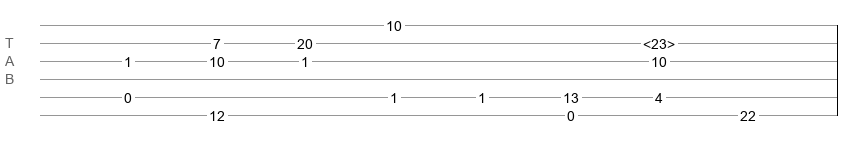0: (124, 90, 132, 100), (567, 108, 575, 118)
1: (124, 54, 132, 64), (301, 54, 309, 64), (390, 90, 398, 100), (478, 90, 486, 100)
10: (209, 54, 225, 64), (386, 18, 402, 28), (651, 54, 667, 64)
12: (209, 108, 225, 118)
13: (563, 90, 579, 100)
20: (297, 36, 313, 46)
22: (740, 108, 756, 118)
4: (655, 90, 663, 100)
7: (213, 36, 221, 46)
harmonic: (643, 36, 675, 46)
